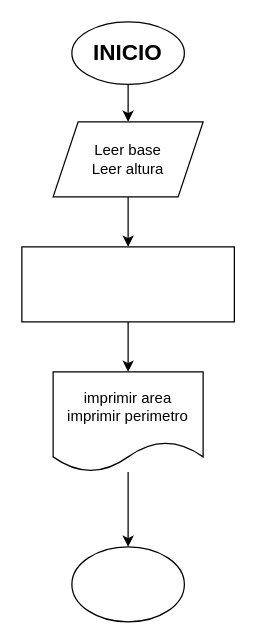
Some shapes in this 256 by 644 pixel diagram are drawn without their labels. The centre of each missing label's shape, as x and y in pixels:
"area = base * altura perimetro = 2 * (base + altura)" goes at point (127, 284).
"FIN" goes at point (127, 584).
